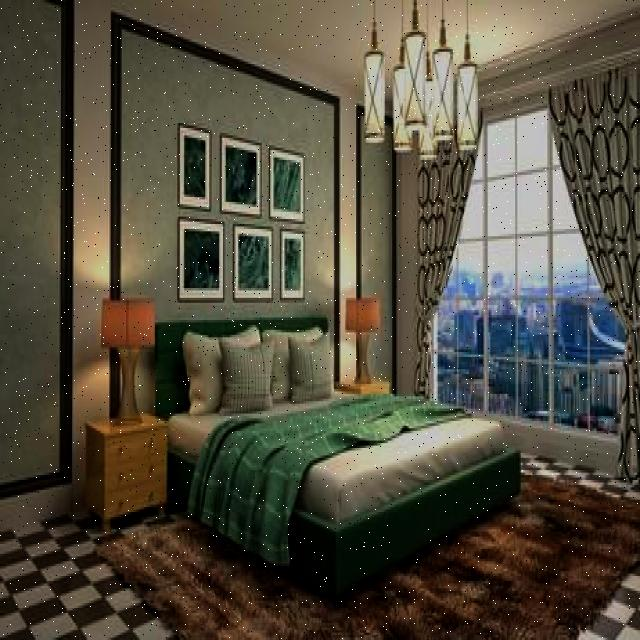bed: (158, 304, 520, 561)
